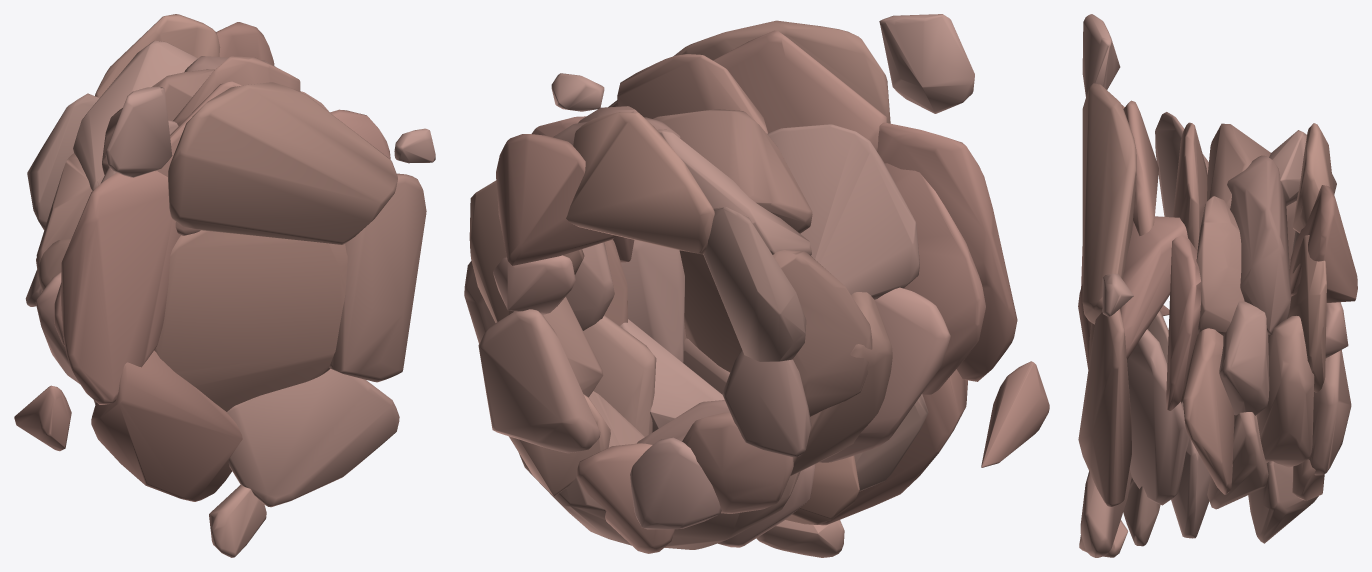
Rendered from holetoilet.fbx.
The picture shows the model from 3 angles, left to right: view 1: azimuth 30°, elevation 25°; view 2: azimuth 150°, elevation 25°; view 3: azimuth 270°, elevation 25°; orthographic projection. The views are drawn at different scales.
Visible parts, largest first — view 1: imagetostl_mesh0; view 2: imagetostl_mesh0; view 3: imagetostl_mesh0.
Part boxes in pixels (bbox=[...]): imagetostl_mesh0: bbox=[14, 14, 435, 557]; imagetostl_mesh0: bbox=[464, 14, 1049, 557]; imagetostl_mesh0: bbox=[1078, 14, 1357, 557].
Bounding box in the file's own units: 60.66 × 64.85 × 33.8.
